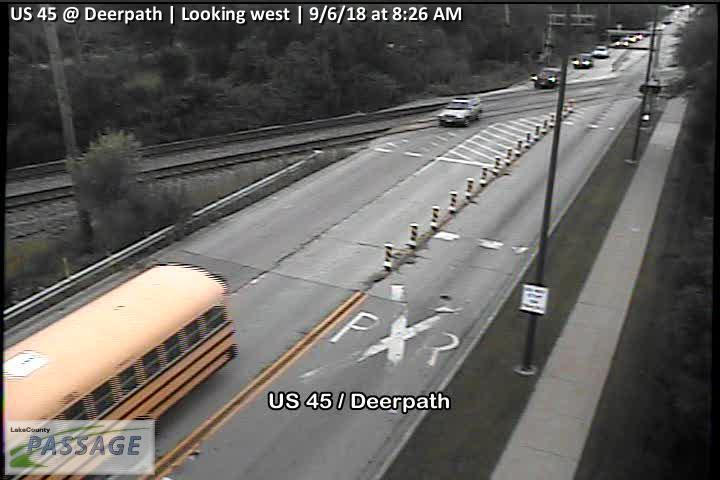Bus: (2, 262, 240, 480)
SUV: (436, 95, 484, 128), (531, 67, 564, 91)
Sedan: (570, 51, 592, 69), (591, 45, 611, 59)
